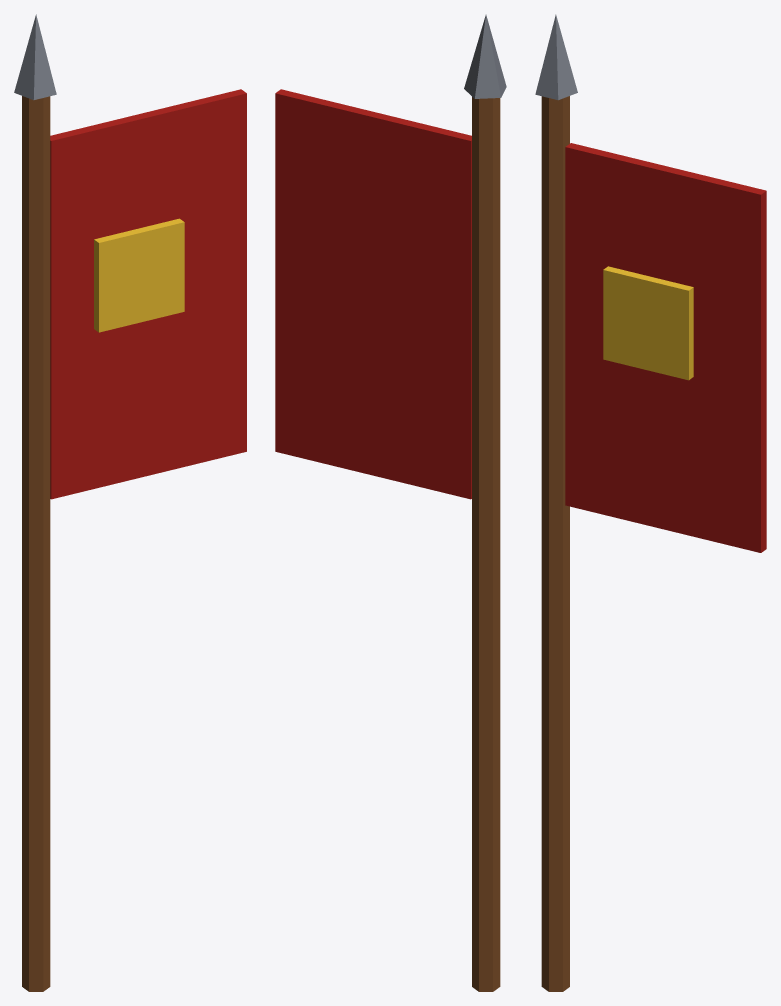
The model's file is banner_pole.glb.
3 views of the same model, side by side, from view 1: azimuth 30°, elevation 25°; view 2: azimuth 150°, elevation 25°; view 3: azimuth 330°, elevation 25° (orthographic).
Parts seen in each view (by area): view 1: banner_pole; view 2: banner_pole; view 3: banner_pole.
Boxes of the visible parts, left/top/right/bottom form: banner_pole: left=14, top=14, right=246, bottom=991; banner_pole: left=275, top=14, right=506, bottom=991; banner_pole: left=535, top=14, right=766, bottom=991.
Size of the model in its own units: 0.9261 by 3.8 by 0.1447.
